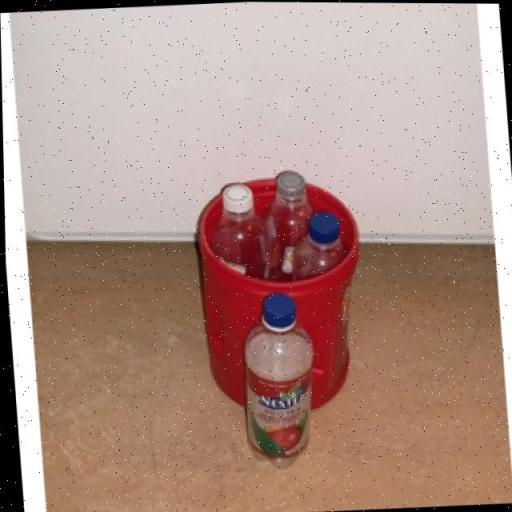plastic: (233, 288, 319, 470)
